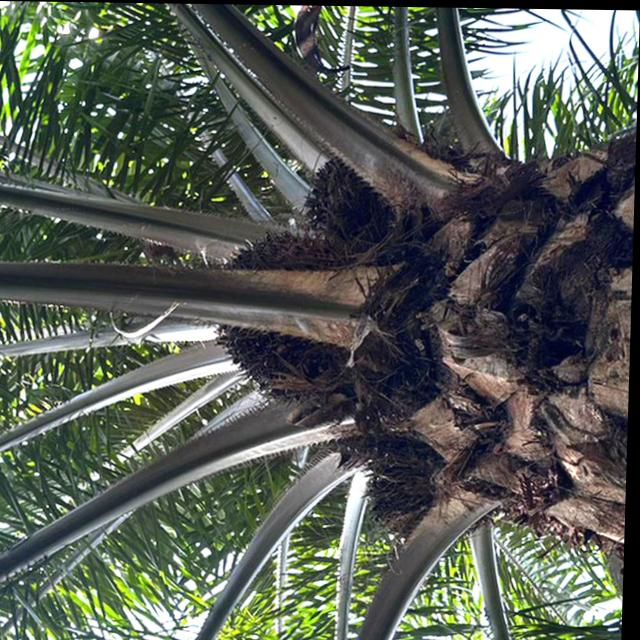ripe: (208, 229, 338, 403), (292, 146, 391, 259)
